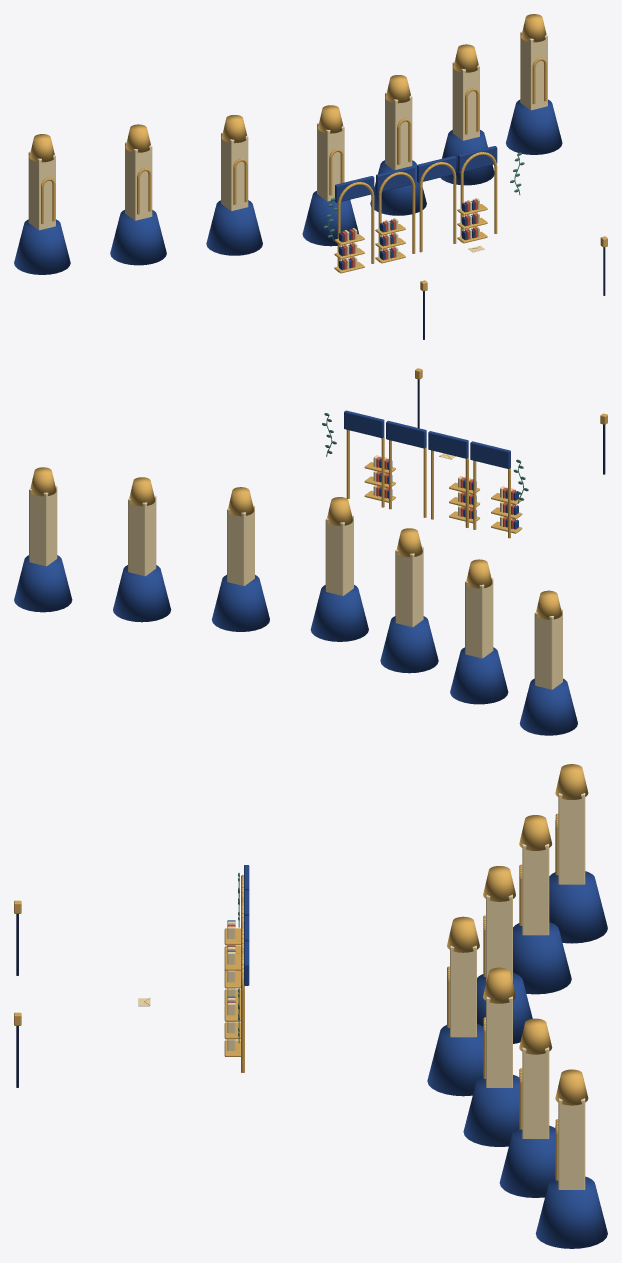
The model's file is attic.glb.
3 views of the same model, one above another, from view 1: azimuth 30°, elevation 25°; view 2: azimuth 150°, elevation 25°; view 3: azimuth 270°, elevation 25° (orthographic). The views are drawn at different scales.
Parts seen in each view (by area): view 1: Architecture_blue, Architecture_cream, Architecture_gold, Architecture_coral; view 2: Architecture_blue, Architecture_cream, Architecture_gold, Architecture_coral; view 3: Architecture_blue, Architecture_cream, Architecture_gold.
Boxes of the visible parts, left/top/right/bottom form: Architecture_blue: left=14, top=99, right=562, bottom=274; Architecture_cream: left=28, top=32, right=547, bottom=269; Architecture_gold: left=29, top=14, right=607, bottom=291; Architecture_coral: left=341, top=199, right=477, bottom=269; Architecture_blue: left=14, top=410, right=577, bottom=735; Architecture_cream: left=29, top=453, right=562, bottom=689; Architecture_gold: left=30, top=368, right=607, bottom=619; Architecture_coral: left=376, top=456, right=515, bottom=528; Architecture_blue: left=227, top=865, right=607, bottom=1248; Architecture_cream: left=138, top=793, right=585, bottom=1189; Architecture_gold: left=14, top=764, right=588, bottom=1180.
Size of the model in its own units: 26.4 by 6.1 by 19.73.
